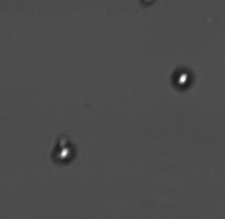Living Cell: (53, 140, 75, 164), (171, 67, 193, 89)
